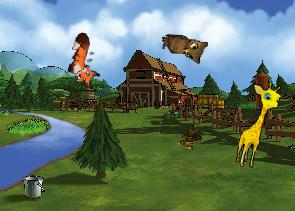fox: (62, 31, 109, 90)
giraffe: (233, 78, 284, 172)
owl: (160, 34, 208, 64)
